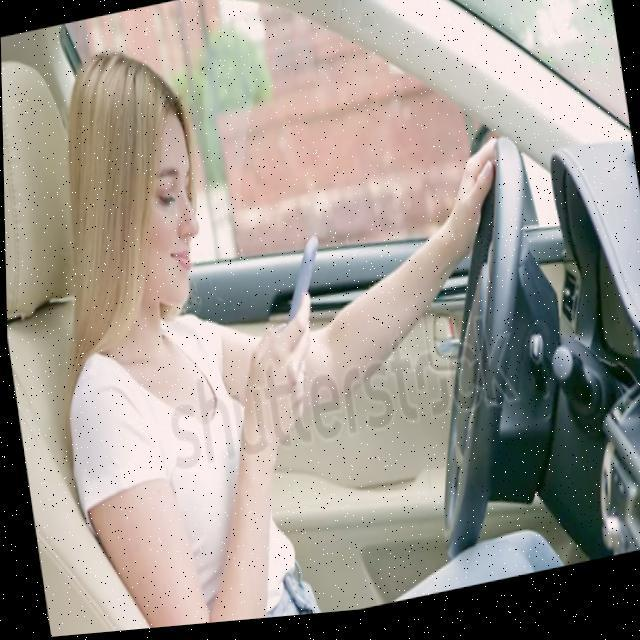PhoneCall: (274, 240, 329, 346)
